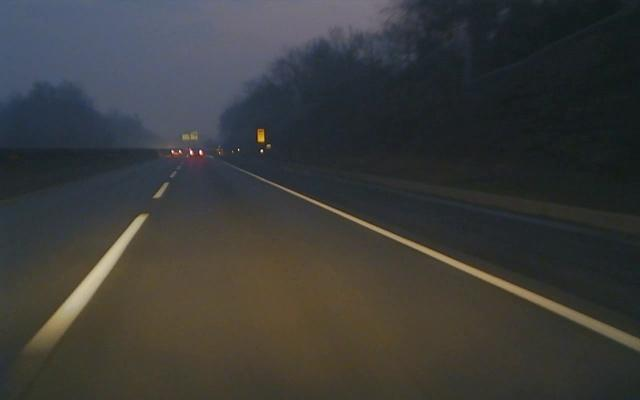lane: (222, 161, 639, 350), (14, 155, 186, 359)
